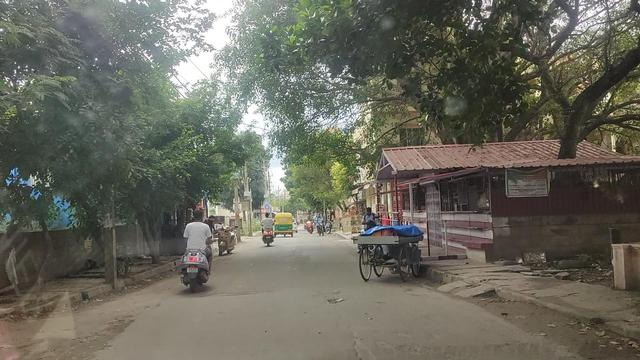RoadDamages: (89, 308, 147, 348), (187, 212, 211, 287), (203, 286, 282, 301), (349, 332, 377, 360)
